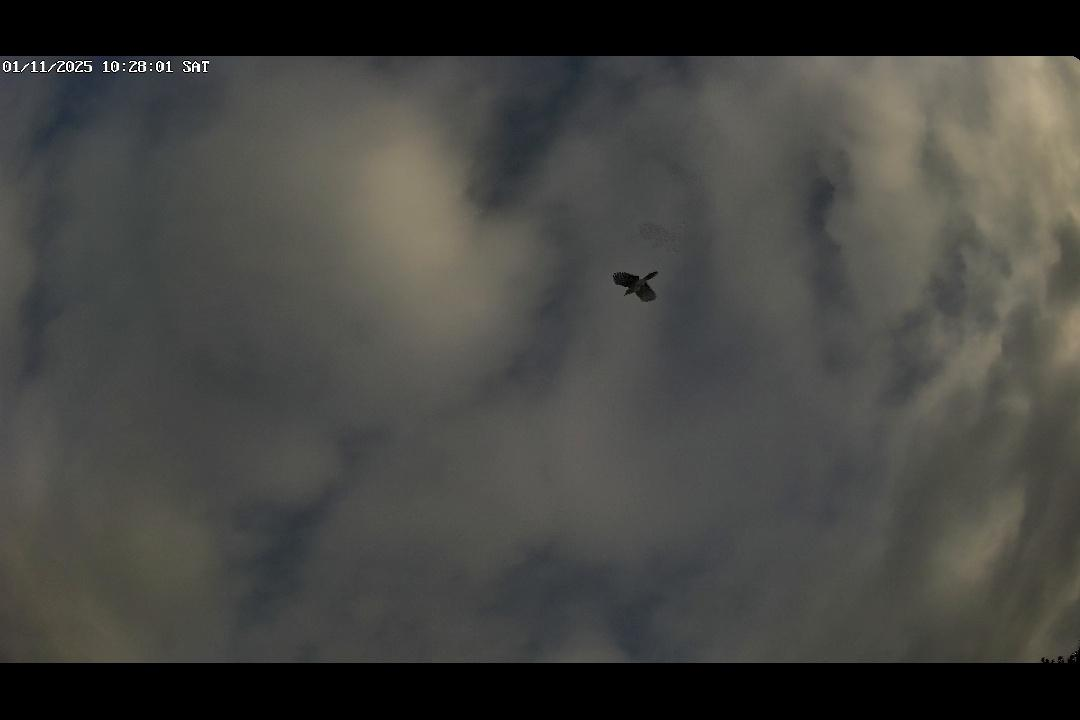WildLife: (593, 259, 682, 314)
